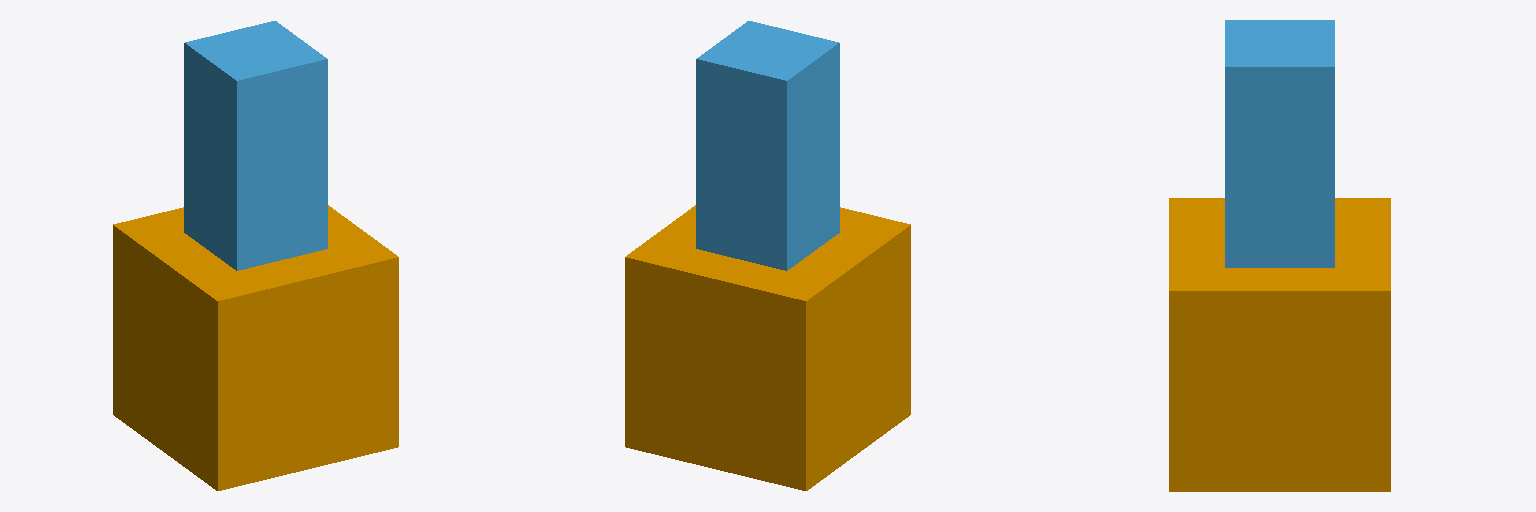
URDF robot description (ros2_control_arm):
<?xml version="1.0"?>
<robot name="ros2_control_arm">
  <link name="base_link">
    <visual>
      <geometry>
        <box size="0.1 0.1 0.1"/>
      </geometry>
    </visual>
  </link>
  <link name="link1">
    <visual>
      <geometry>
        <box size="0.05 0.05 0.2"/>
      </geometry>
    </visual>
  </link>
  <joint name="joint1" type="revolute">
    <parent link="base_link"/>
    <child link="link1"/>
    <origin xyz="0 0 0.05" rpy="0 0 0"/>
    <axis xyz="0 0 1"/>
    <limit lower="-1" upper="1" effort="1" velocity="1"/>
  </joint>

  <ros2_control name="FakeSystem" type="system">
    <hardware>
      <plugin>fake_components/GenericSystem</plugin>
    </hardware>
    <joint name="base">
      <command_interface name="position"/>
      <state_interface name="position"/>
    </joint>
    <joint name="shoulder">
      <command_interface name="position"/>
      <state_interface name="position"/>
    </joint>
    <joint name="elbow">
      <command_interface name="position"/>
      <state_interface name="position"/>
    </joint>
  </ros2_control>

  <gazebo>
    <joint name="gazebo_fake_joint">
      <parent link="base_link"/>
    </joint>
  </gazebo>
</robot>

--- Facts derived from the render (not from the file) ---
3 views of the same robot in one strip: view 1: azimuth 30°, elevation 25°; view 2: azimuth 150°, elevation 25°; view 3: azimuth 270°, elevation 25° (orthographic).
Robot: ros2_control_arm — 2 links, 1 joints (1 revolute); root link base_link; default pose: every joint at zero.
Links seen in each view (by area): view 1: base_link, link1; view 2: base_link, link1; view 3: base_link, link1.
Boxes of the visible links, box(x1,y1,x2,y2) form: base_link: box(113, 205, 398, 490); link1: box(184, 21, 327, 270); base_link: box(625, 205, 910, 490); link1: box(696, 21, 839, 270); base_link: box(1169, 198, 1390, 491); link1: box(1225, 20, 1334, 267).
Size in the robot's own frame: 0.1 by 0.1 by 0.2 metres.
Geometry: primitives only (box / cylinder / sphere), no mesh files.
